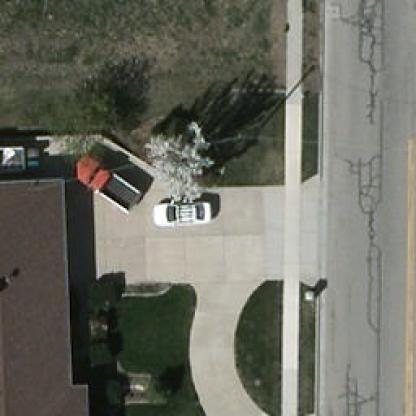car: (148, 195, 218, 221)
pickup: (65, 151, 143, 213), (0, 146, 26, 174)
